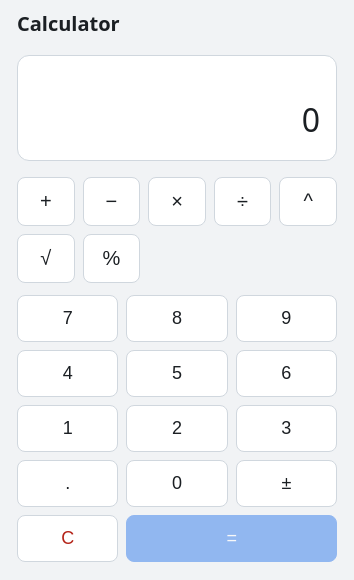
Test case: App › issues one request for a completed computation and renders what it returns
Click the button "1" at (68, 428), box [17,405,118,452]
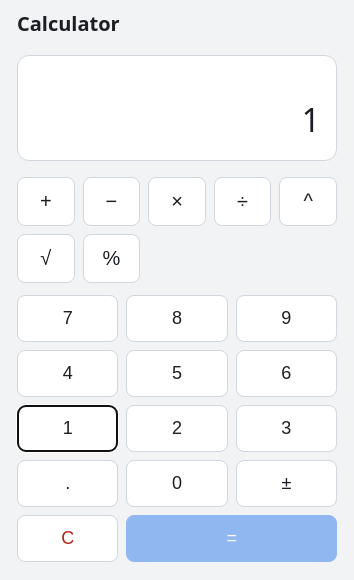
Click the button named "Addition" at (46, 202), box [17,177,75,226]
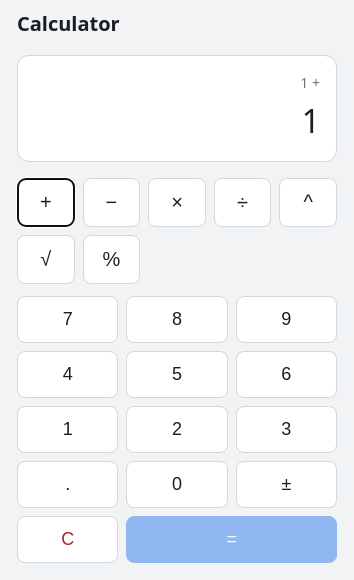
Click the button "2" at (177, 430), box [126,406,228,453]
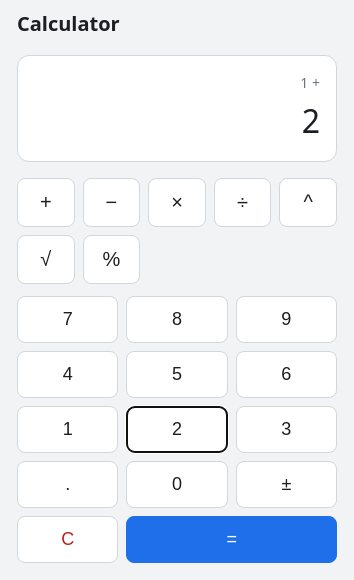
Click the button named "Equals" at (232, 540), box [126,516,337,563]
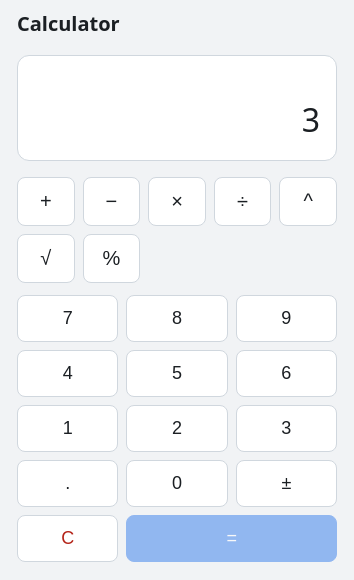
Expected: the text "3" is shown, [302,98,320,141]
